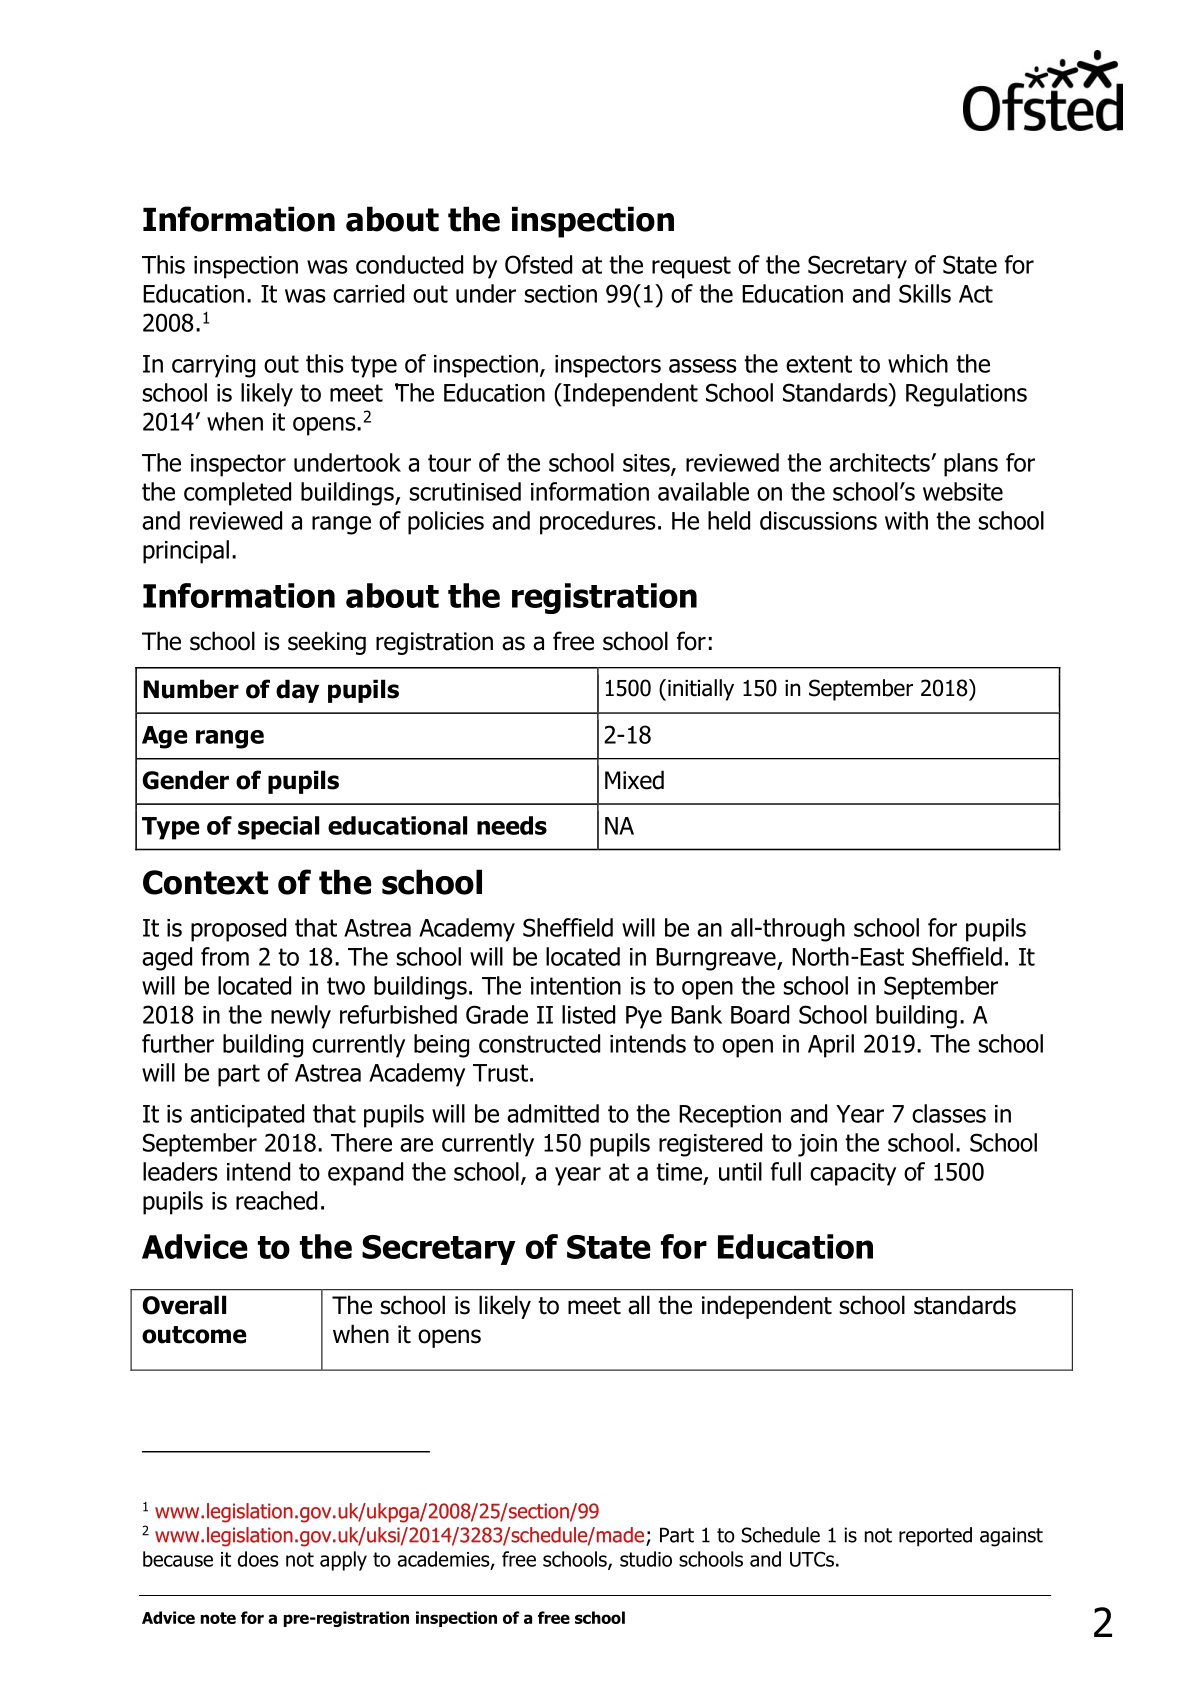full_lined: (133, 662, 1066, 859), (125, 1282, 1075, 1376)
